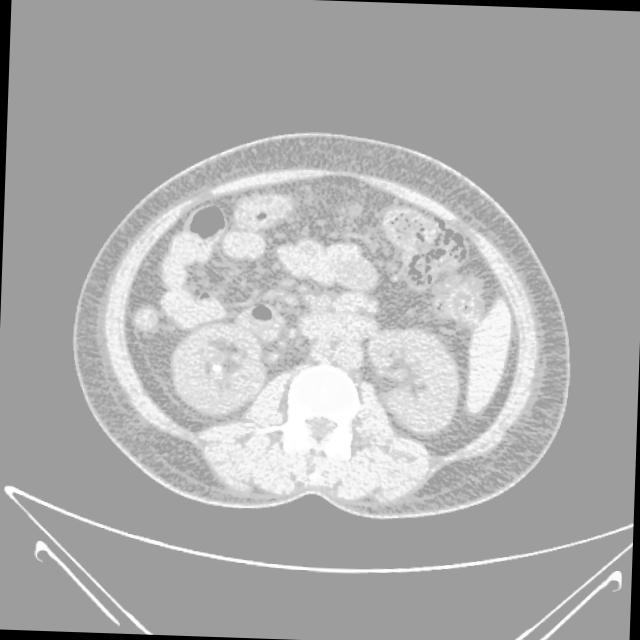STONE: (166, 149, 494, 341)
